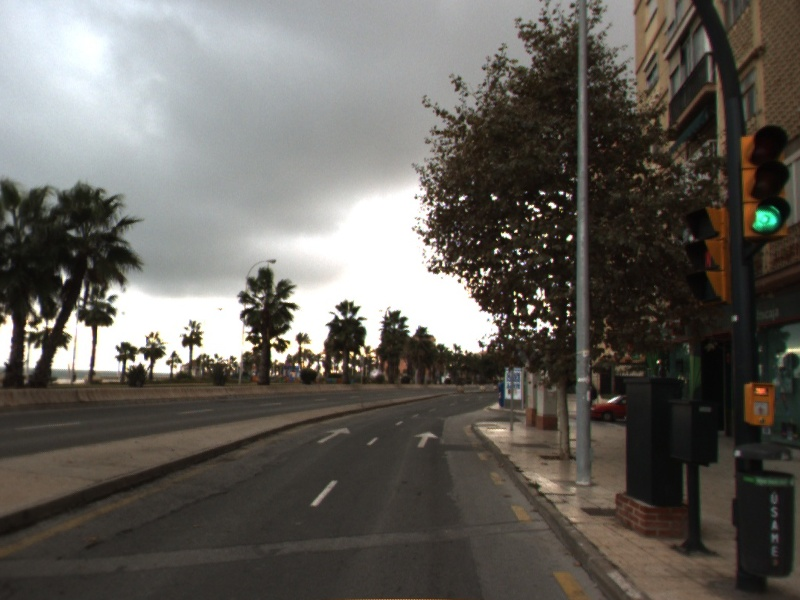STRAIGHT: (316, 426, 351, 444), (412, 430, 440, 449)
